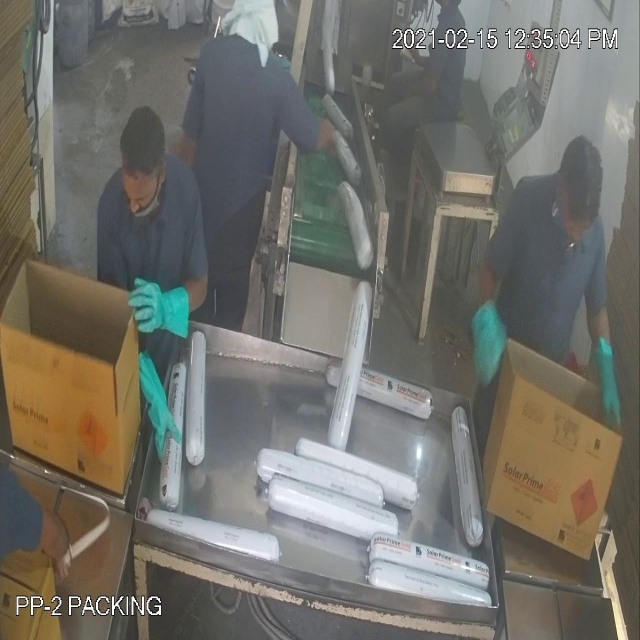Guantes: (117, 271, 205, 354), (128, 341, 184, 467), (585, 311, 629, 447), (463, 282, 508, 388), (298, 89, 342, 165)
Sin_guantes: (0, 478, 81, 587)
